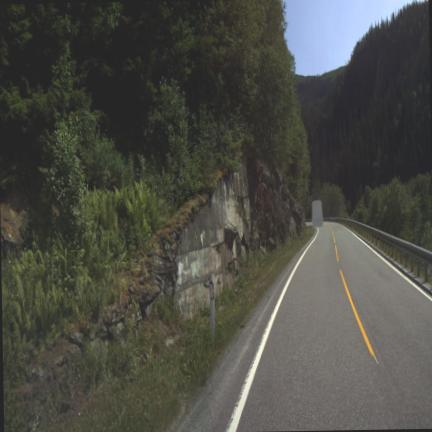Road: (175, 223, 431, 431)
